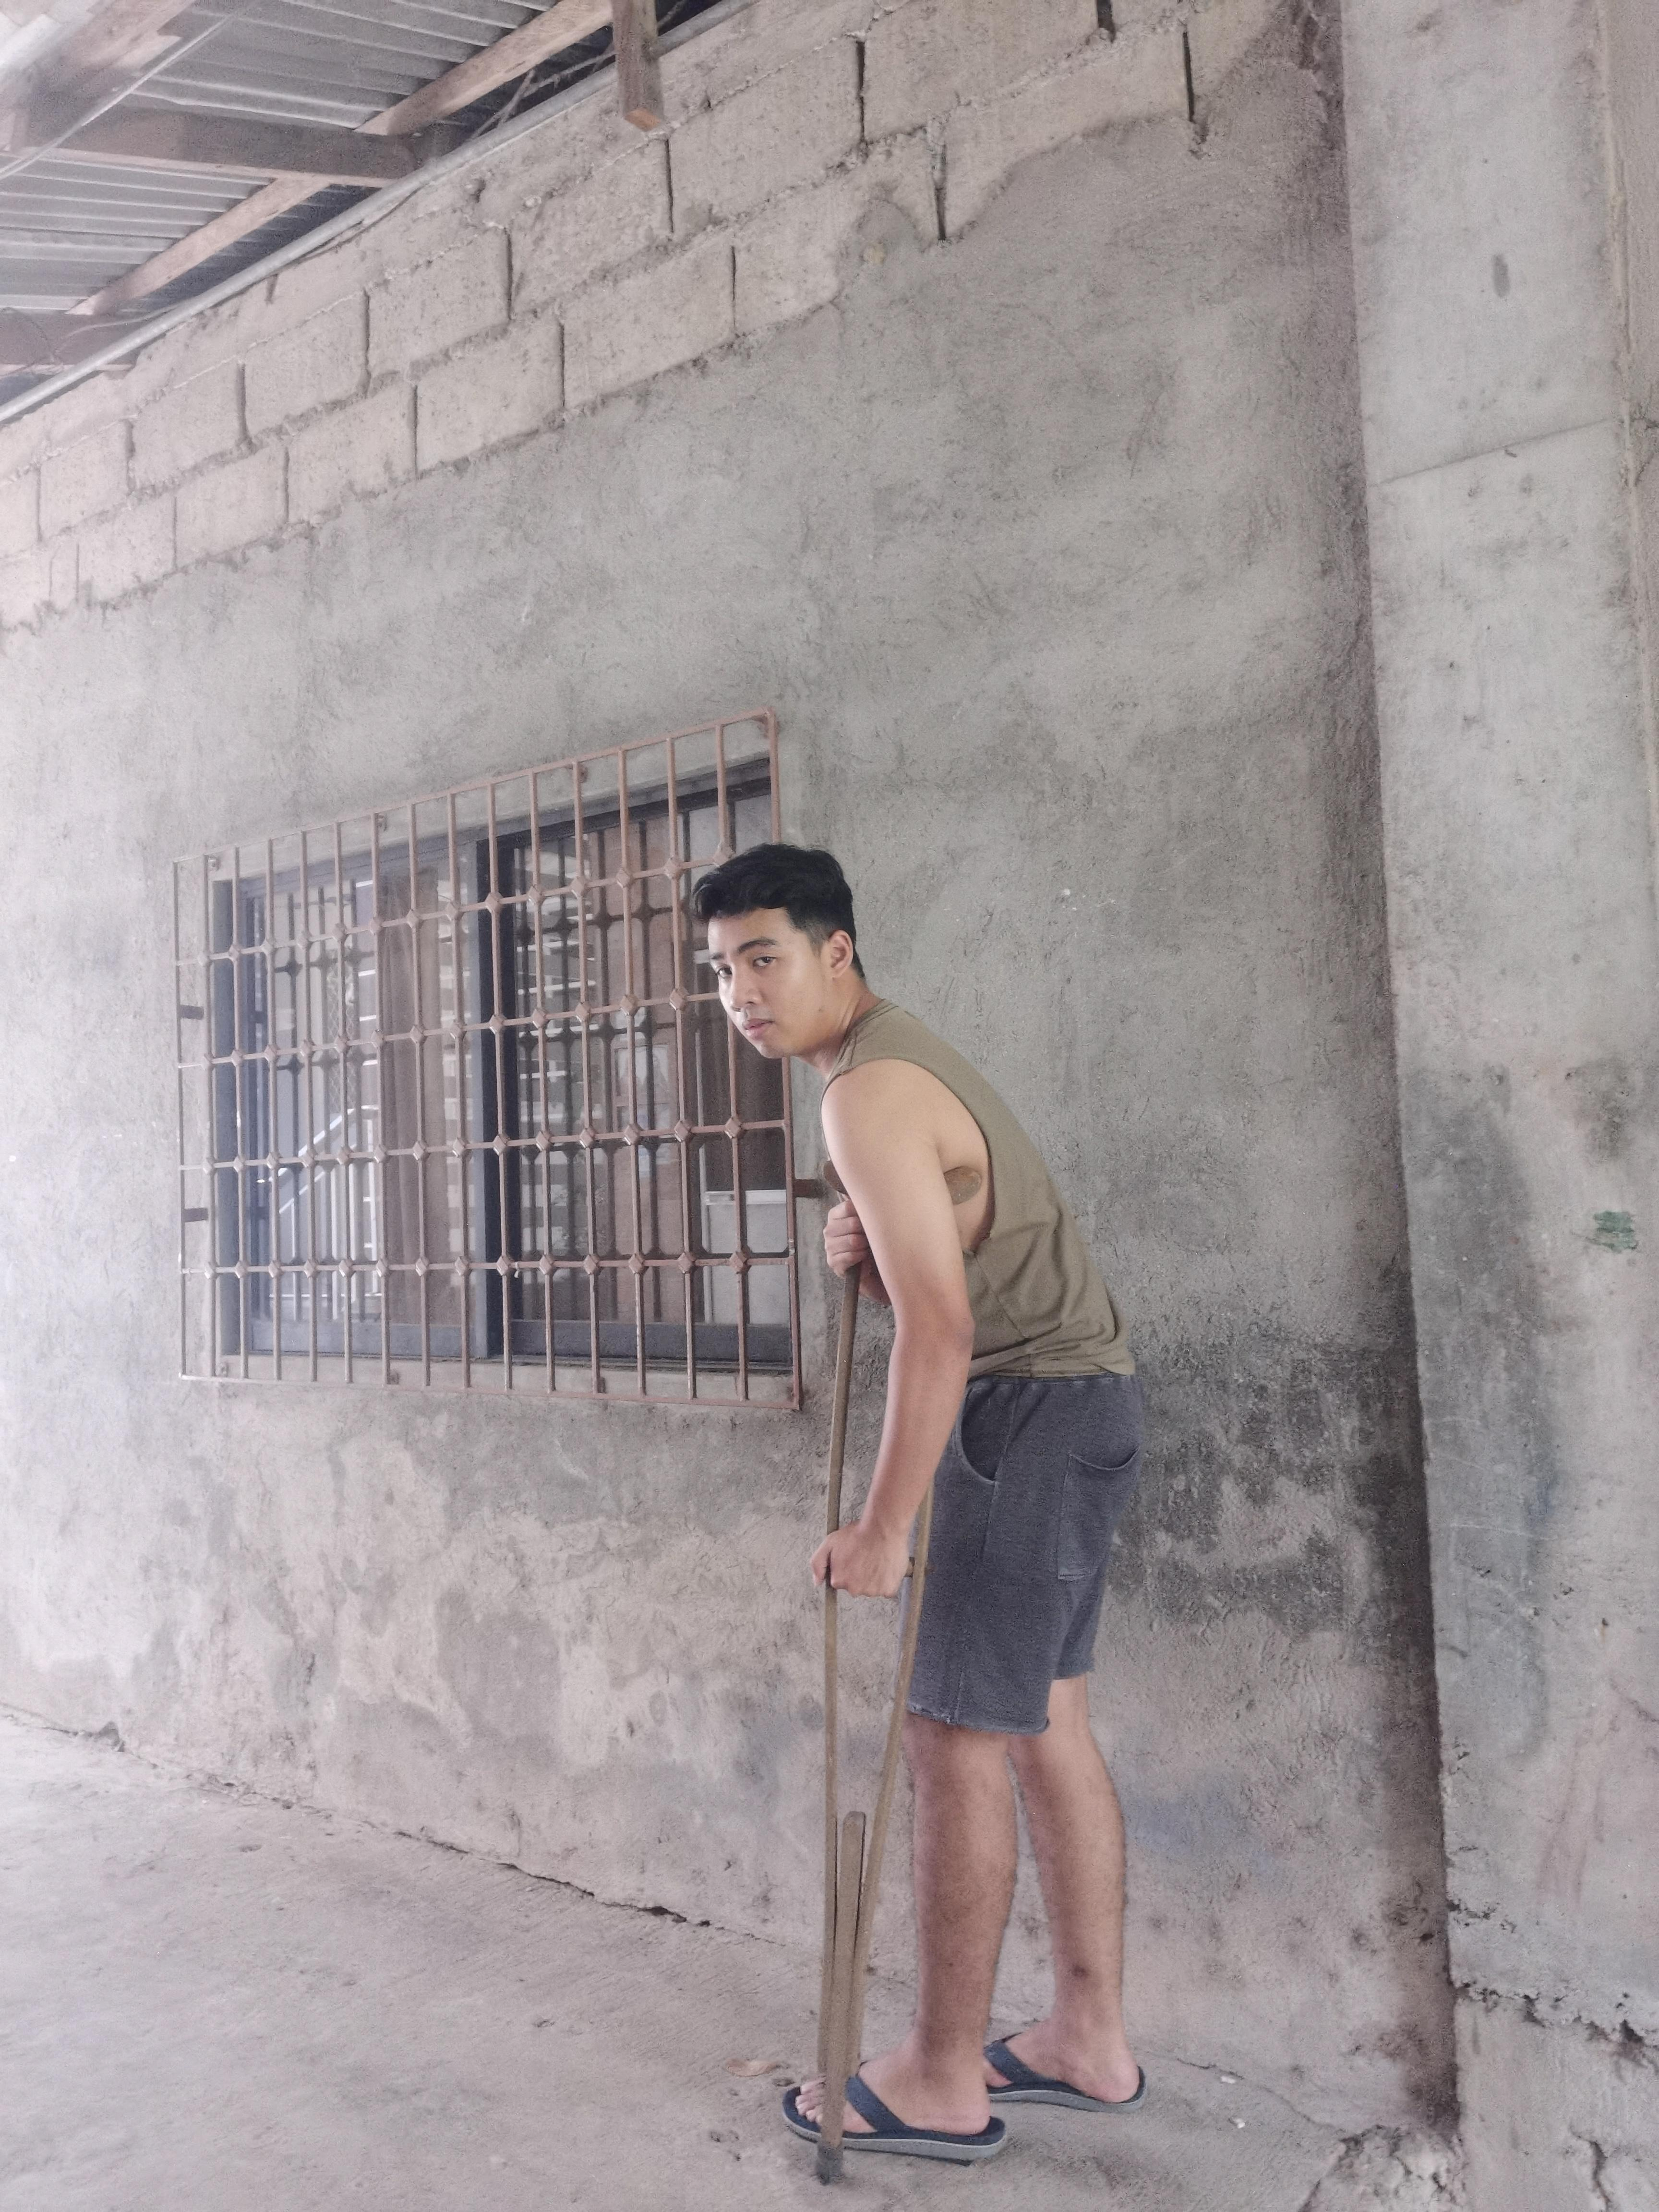crutches: (667, 827, 1168, 2212)
